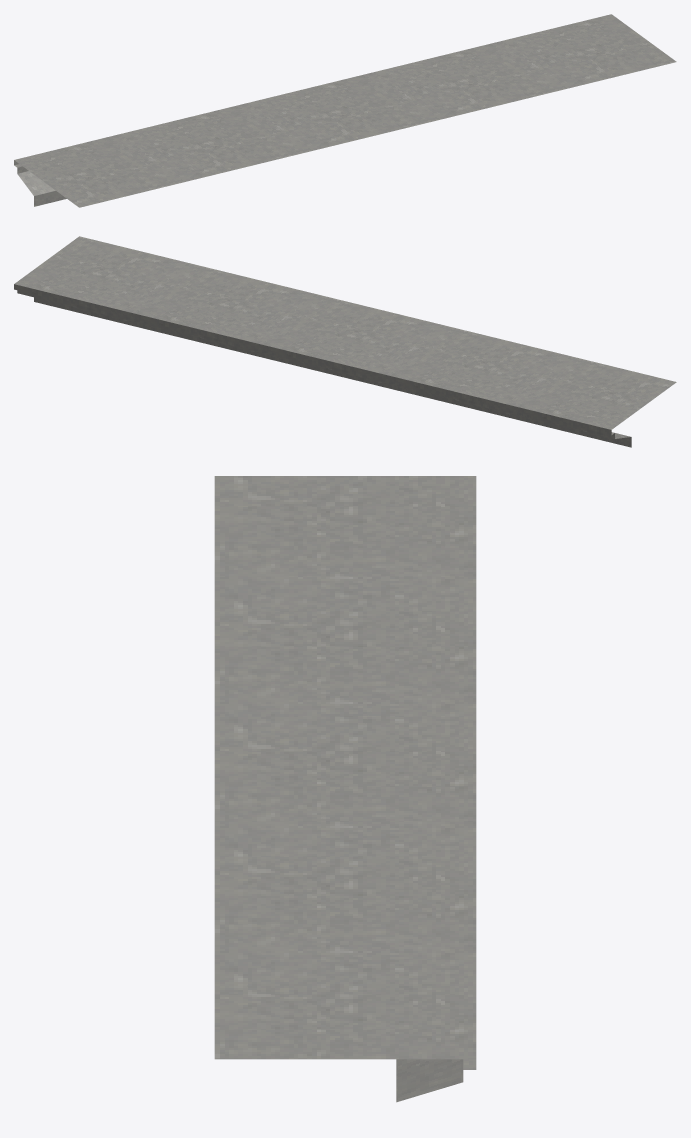
Rendered from GJ_Trim_02_02.fbx.
3 renders of one model, top to bottom at view 1: azimuth 30°, elevation 25°; view 2: azimuth 150°, elevation 25°; view 3: azimuth 270°, elevation 25°, orthographic. The views are drawn at different scales.
Parts seen in each view (by area): view 1: GJ_Trim_02_02; view 2: GJ_Trim_02_02; view 3: GJ_Trim_02_02.
Boxes of the visible parts, x1,y1,x2,y2 form: GJ_Trim_02_02: [14, 14, 676, 207]; GJ_Trim_02_02: [14, 236, 676, 447]; GJ_Trim_02_02: [214, 476, 476, 1102].
Bounding box in the file's own units: 400 × 20.69 × 75.8.
